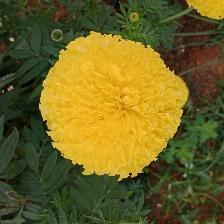marigold: (37, 33, 190, 184)
